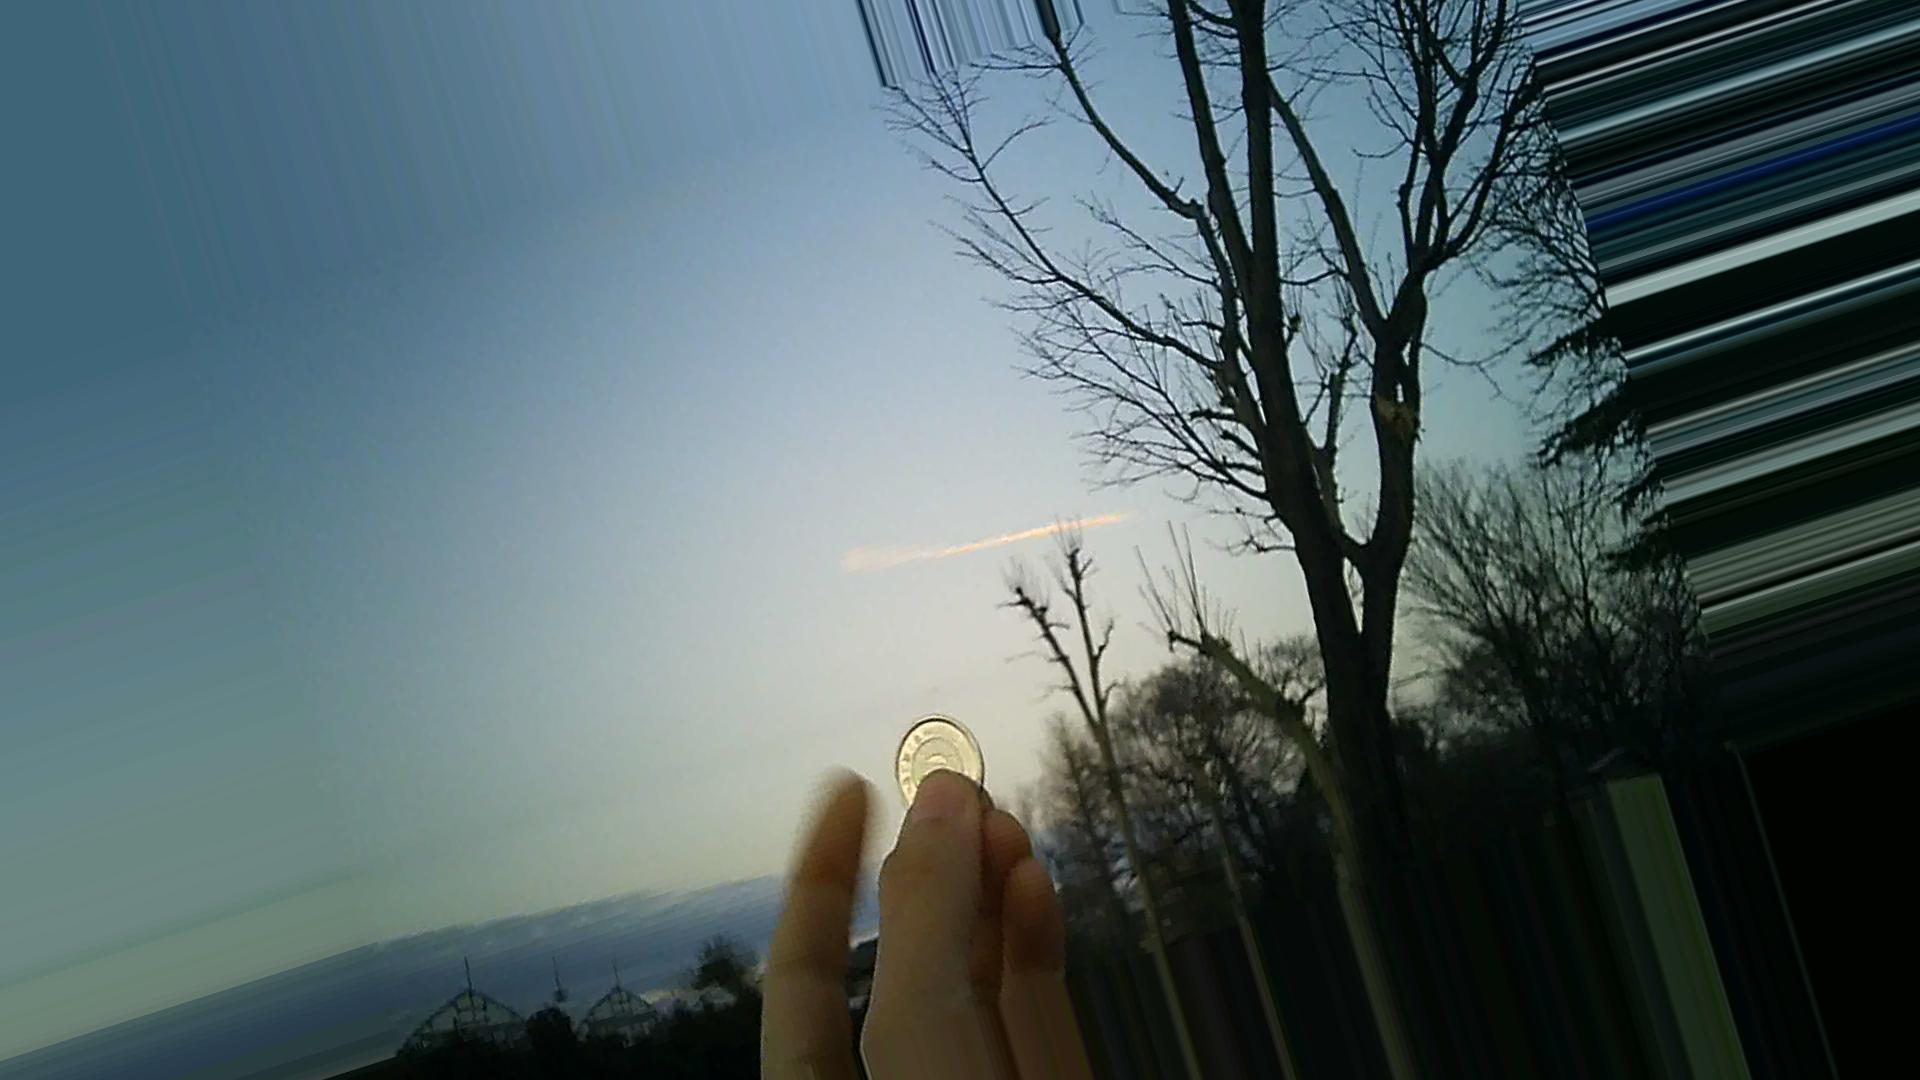1 Yen: (897, 715, 993, 814)
